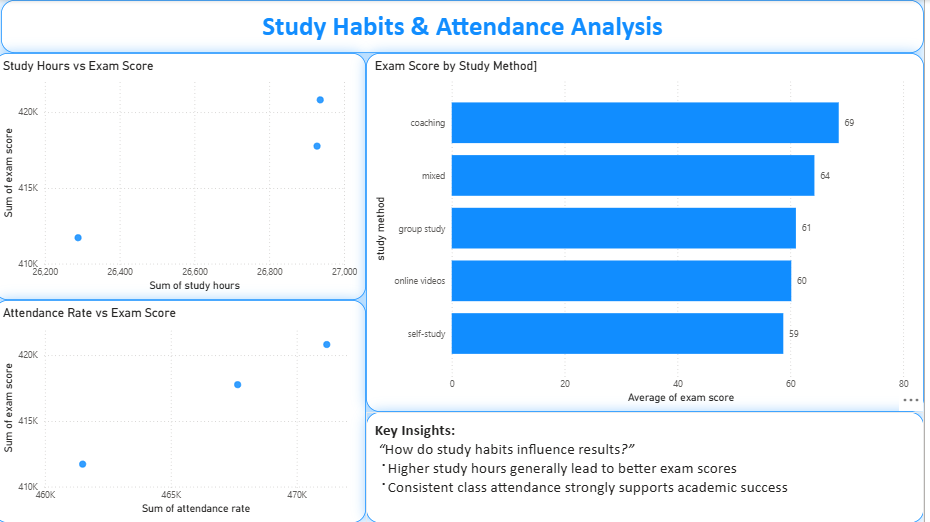

The page's visual inventory and layout, read from the dashboard file:
{"tool":"powerbi","page":{"name":"Page 2","canvas":[1280,720],"ordinal":1},"visuals":[{"type":"textbox","box":[9.6,0,1270.4,72.9],"z":0},{"type":"scatterChart","title":"Study Hours vs Exam Score","fields":{"X":["Sum(Exam_Score_Prediction.study hours)"],"Y":["Sum(Exam_Score_Prediction.exam score)"],"Category":["Exam_Score_Prediction.gender"]},"box":[0,72.9,512,340],"z":1000},{"type":"scatterChart","title":"Attendance Rate vs Exam Score","fields":{"X":["Sum(Exam_Score_Prediction.attendance rate)"],"Y":["Sum(Exam_Score_Prediction.exam score)"],"Category":["Exam_Score_Prediction.gender"]},"box":[0,412.9,512,306.9],"z":2000},{"type":"clusteredBarChart","title":"Exam Score by Study Method]","fields":{"Y":["Avg(Exam_Score_Prediction.exam score)"],"Category":["Exam_Score_Prediction.study method"]},"box":[512,72.9,768,494.1],"z":3000},{"type":"textbox","box":[512,567.1,768,152.8],"z":5000}]}

Visuals, with their boxes in screenshot pixels (x1, y1, x2, y2), scaled from the page's 1280x720 canvas onto the 930x522 screenshot:
textbox: 7/0/929/53
"Study Hours vs Exam Score" scatterChart: 0/53/372/299
"Attendance Rate vs Exam Score" scatterChart: 0/299/372/521
"Exam Score by Study Method]" clusteredBarChart: 372/53/929/411
textbox: 372/411/929/521
